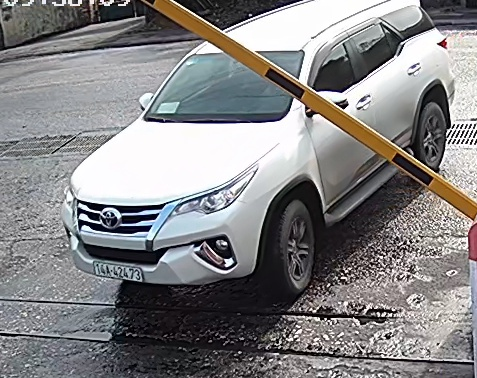vehicle plate: (89, 254, 145, 282)
